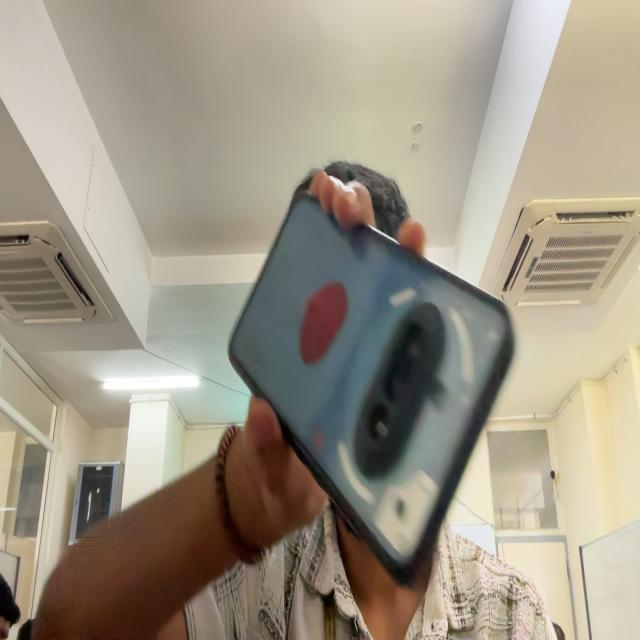Useful: (229, 194, 513, 584)
